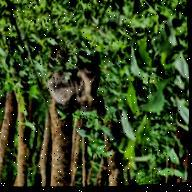boar: (39, 36, 112, 133)
